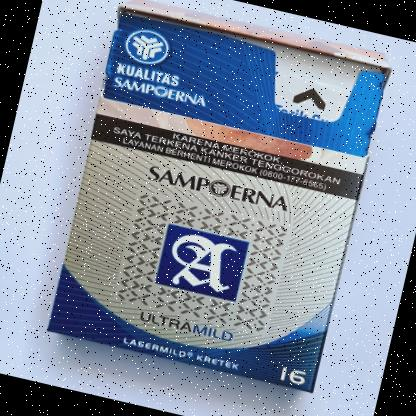bungkus rokok: (37, 0, 407, 402)
